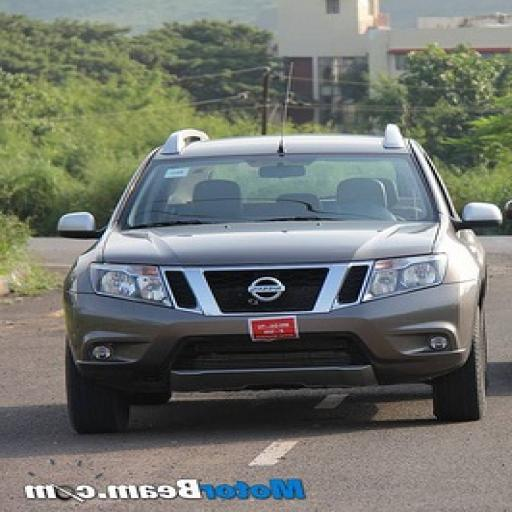License: (254, 316, 296, 338)
